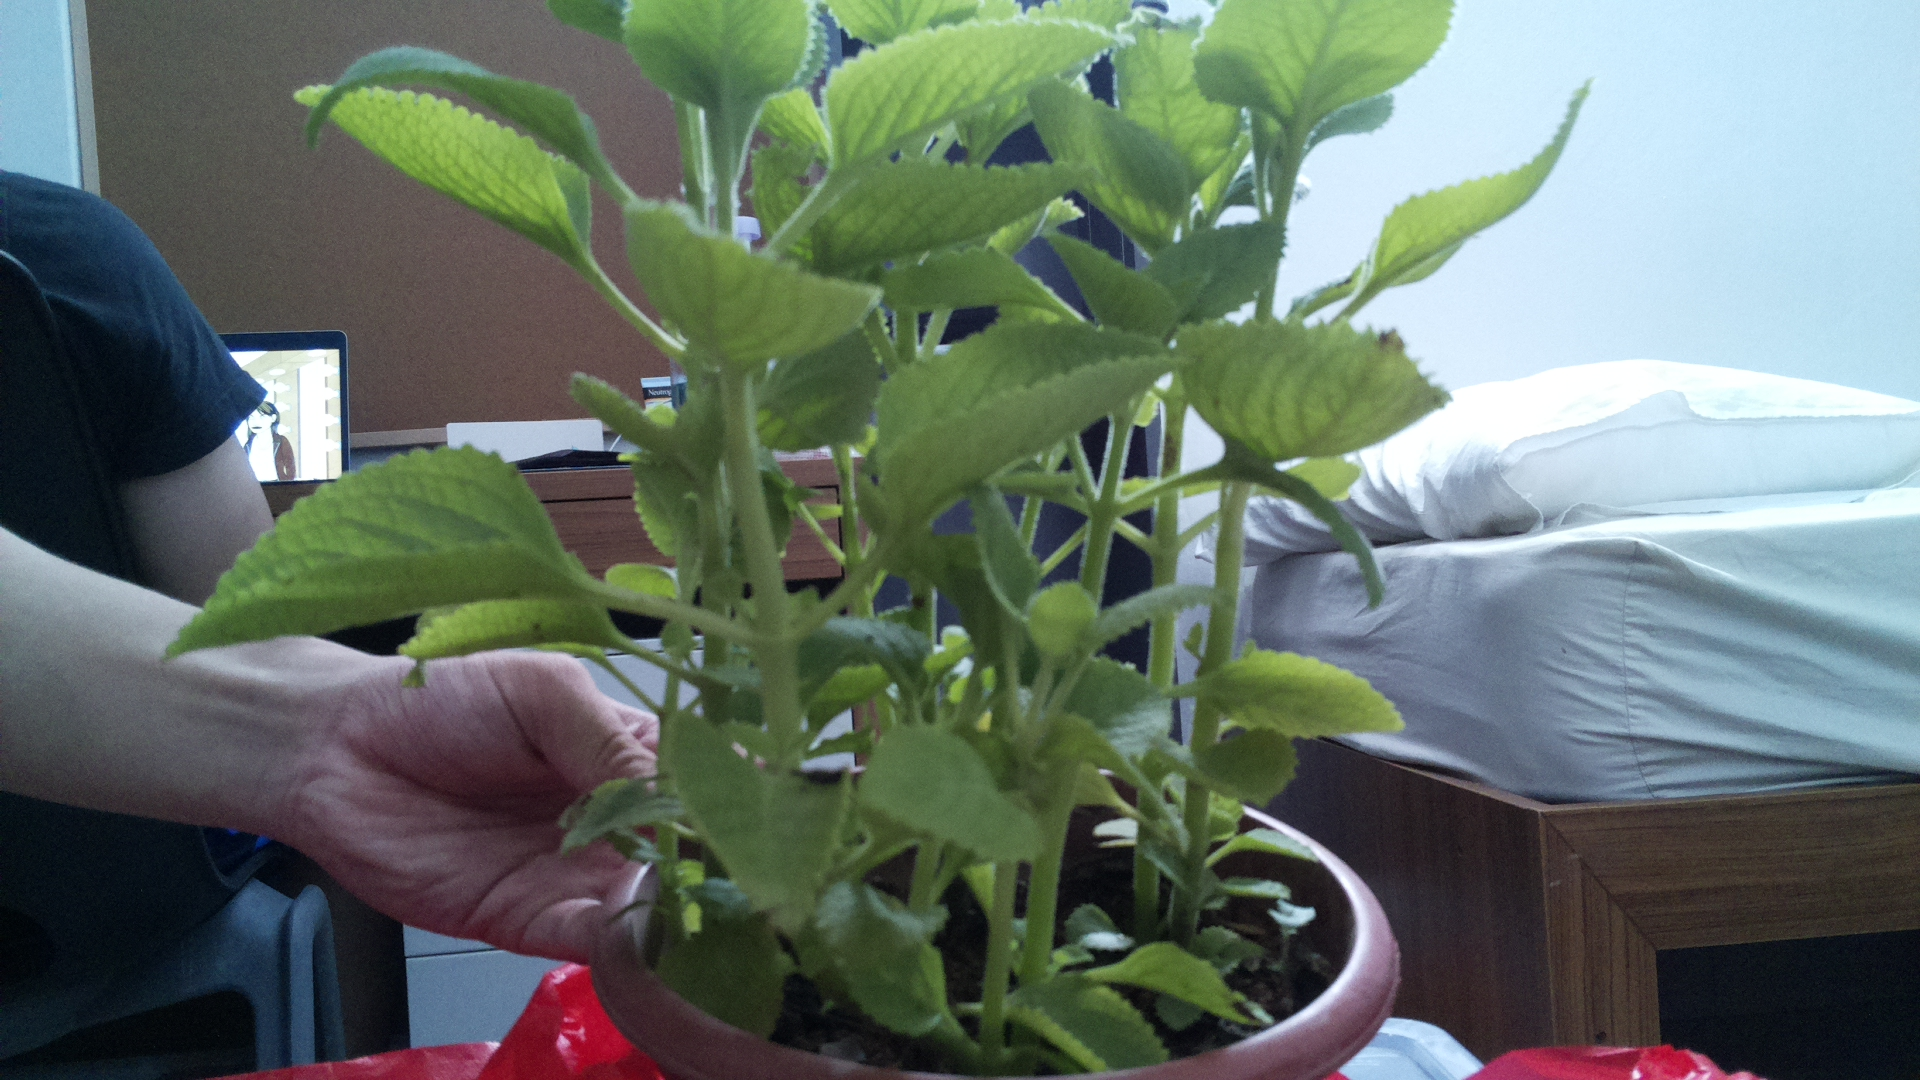leaf: (144, 422, 564, 680), (858, 305, 1176, 538), (291, 69, 613, 282), (624, 187, 895, 392), (822, 9, 1149, 174), (1365, 80, 1604, 303), (669, 703, 864, 955), (1168, 315, 1456, 446), (865, 719, 1064, 877), (401, 574, 621, 687), (1187, 649, 1420, 752), (988, 967, 1179, 1080)
